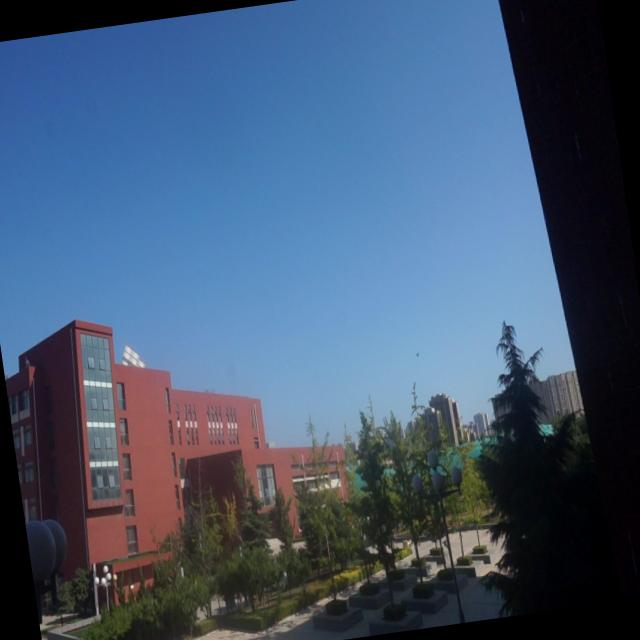drone: (413, 347, 422, 362)
